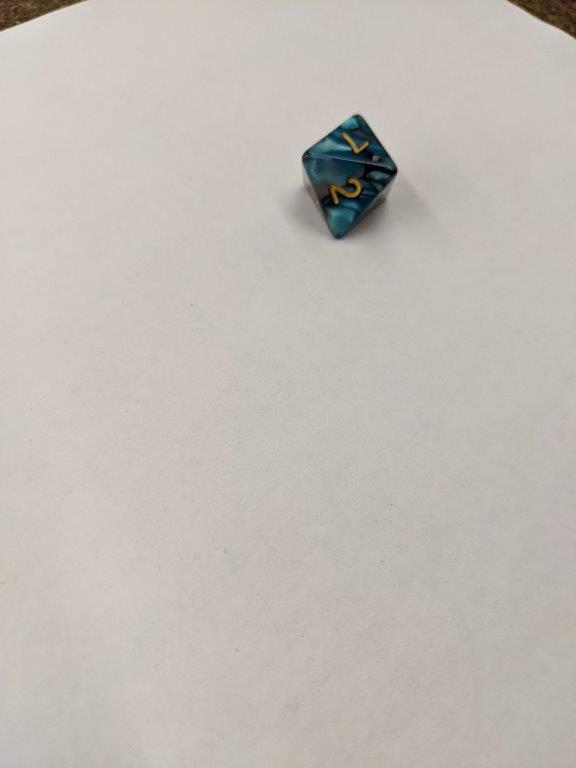d8-7: (301, 113, 398, 239)
